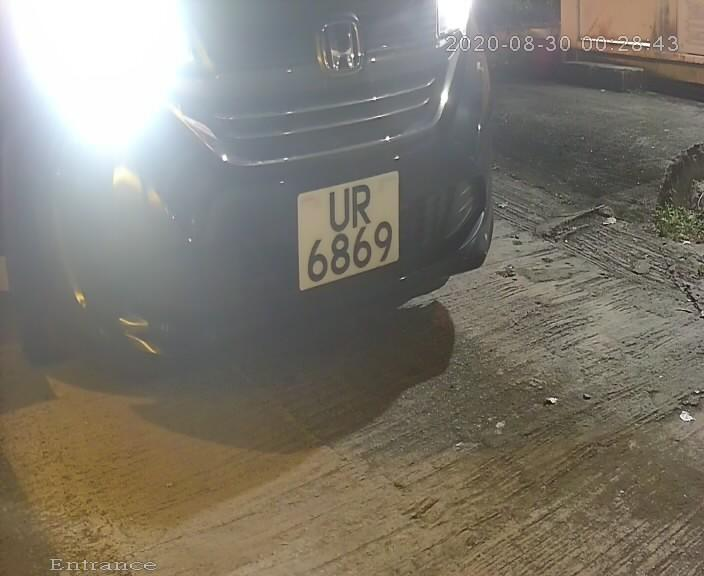License Plate: (290, 163, 406, 301)
